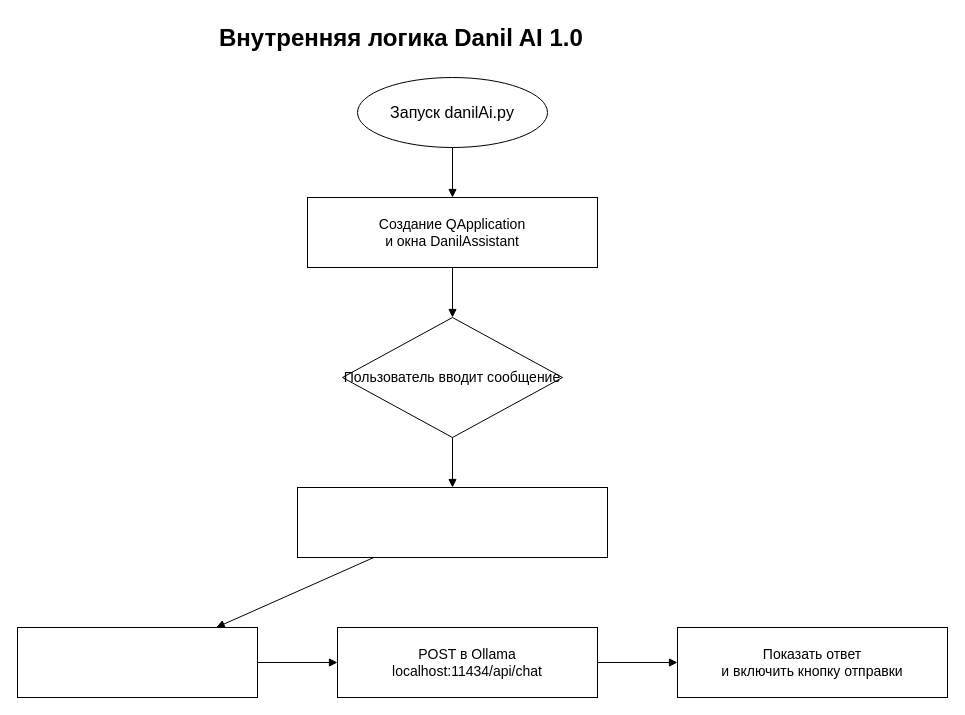
This 965x715 diagram has some shape labels left out. Here are the shapes that lost their labels. From the top down, the centre of each, then its label:
the point at 452,522: Добавить сообщение на экран и в список messages
the point at 137,662: ResponseWorker отдельный поток
